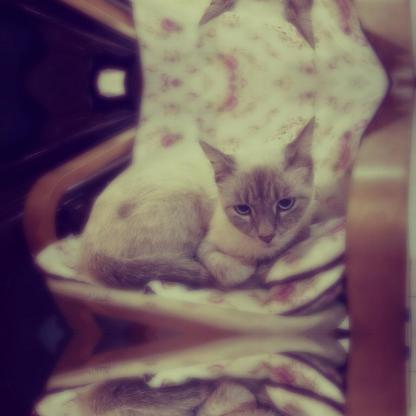Cat: (78, 112, 318, 288), (78, 0, 319, 52), (78, 378, 319, 415)
